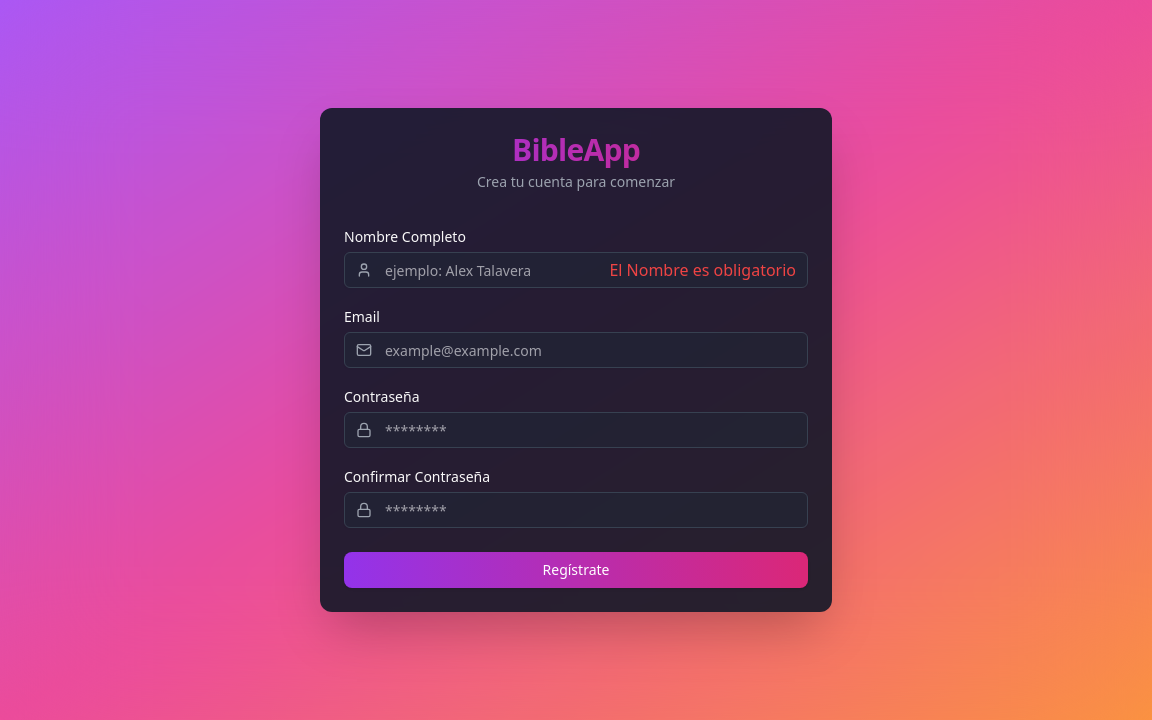
it: Componente de Registro › muestra mensaje de éxito cuando el registro es exitoso
Type "John Doe" into the field labelled "Nombre Completo" at (576, 270), box [344, 252, 808, 288]
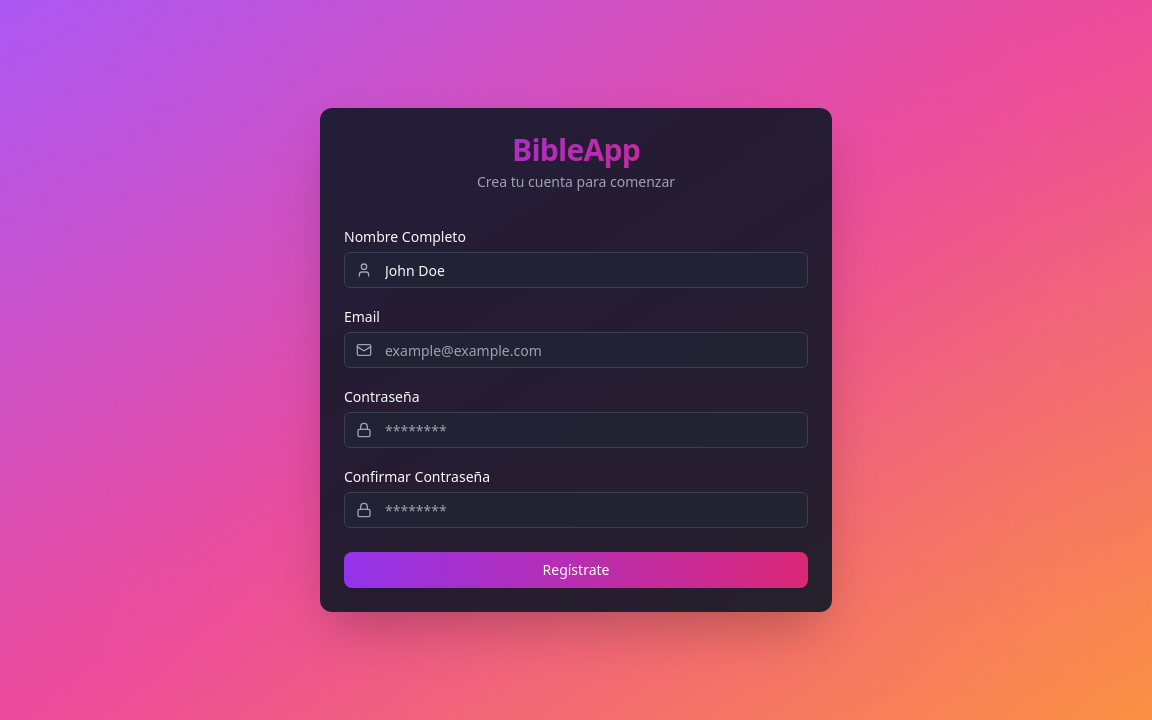
Type "john@example.com" into the field labelled "Email" at (576, 350), box [344, 332, 808, 368]
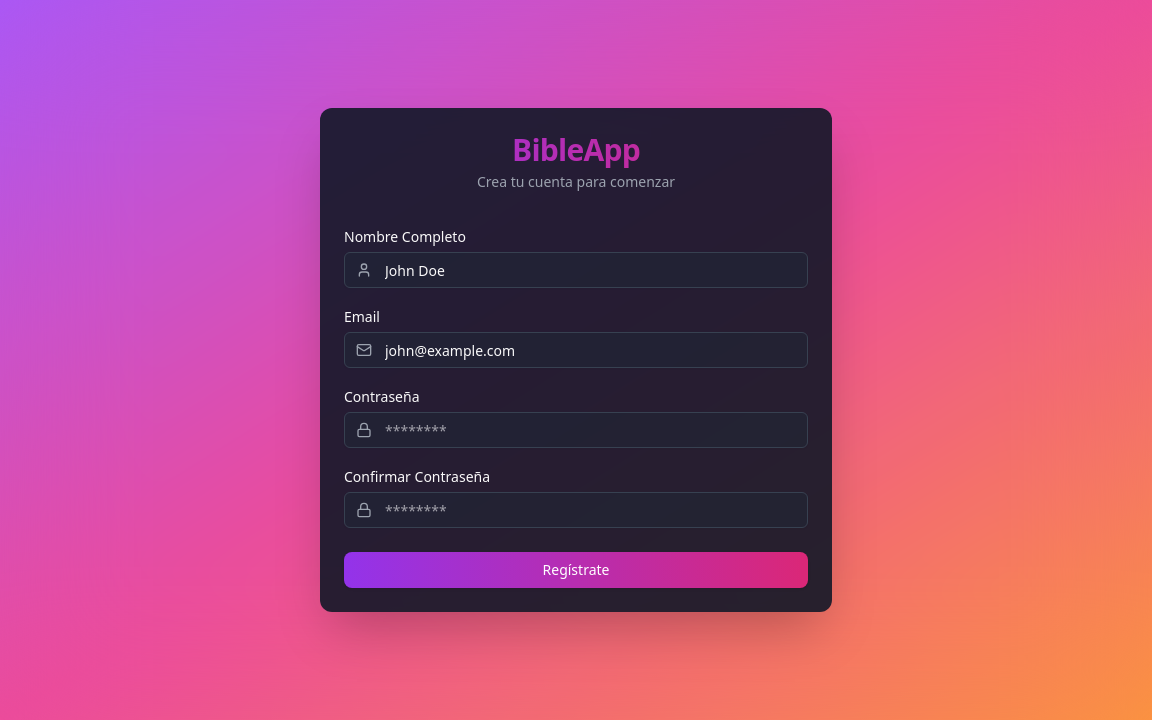
Type "password123" into the password field labelled "Contraseña" at (576, 430), box [344, 412, 808, 448]
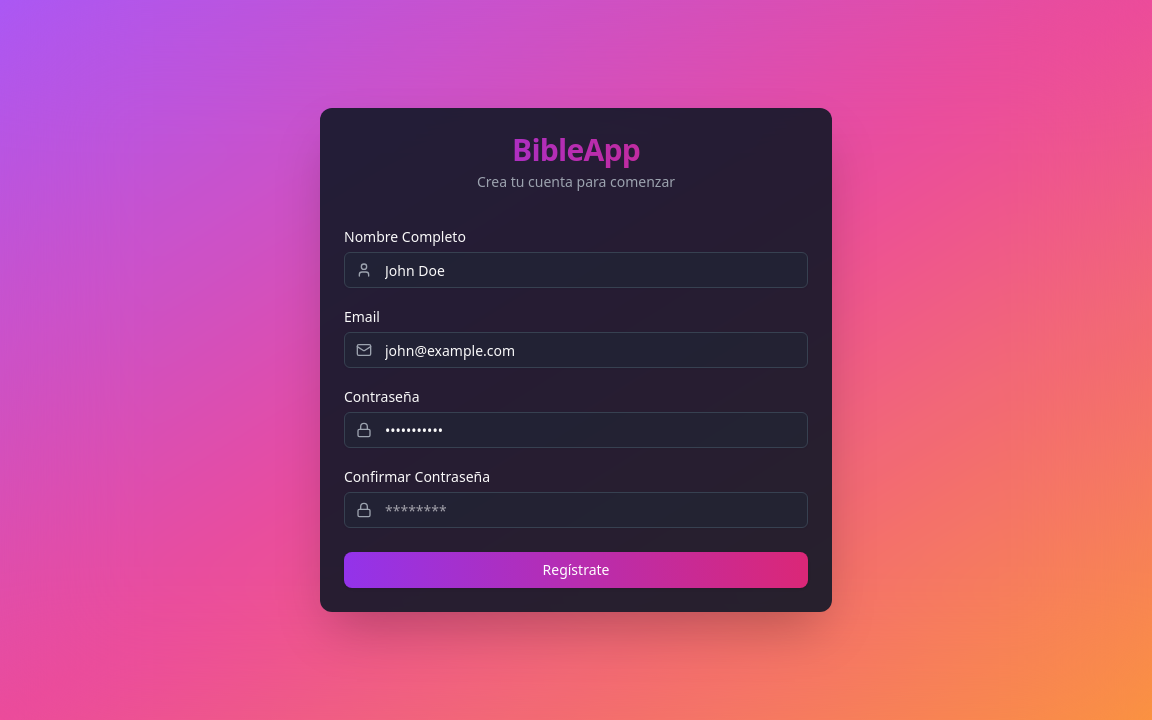
Type "password123" into the password field labelled "Confirmar Contraseña" at (576, 510), box [344, 492, 808, 528]
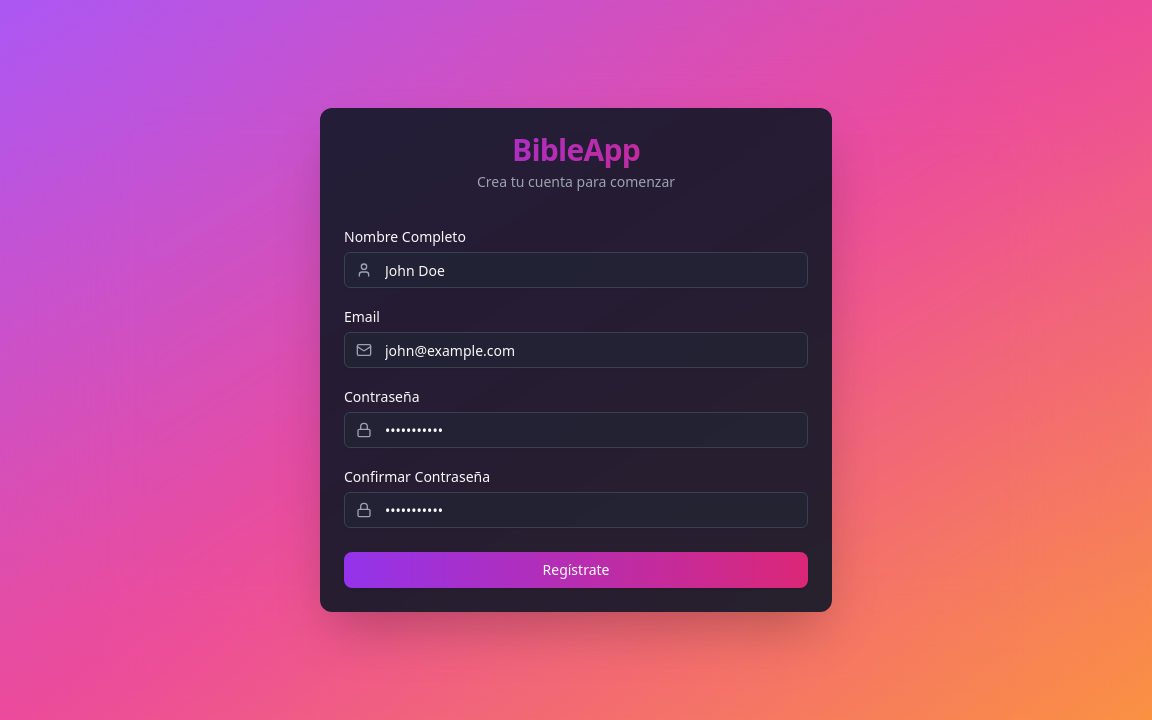
Click the button "Regístrate" at (576, 570), box [344, 552, 808, 588]
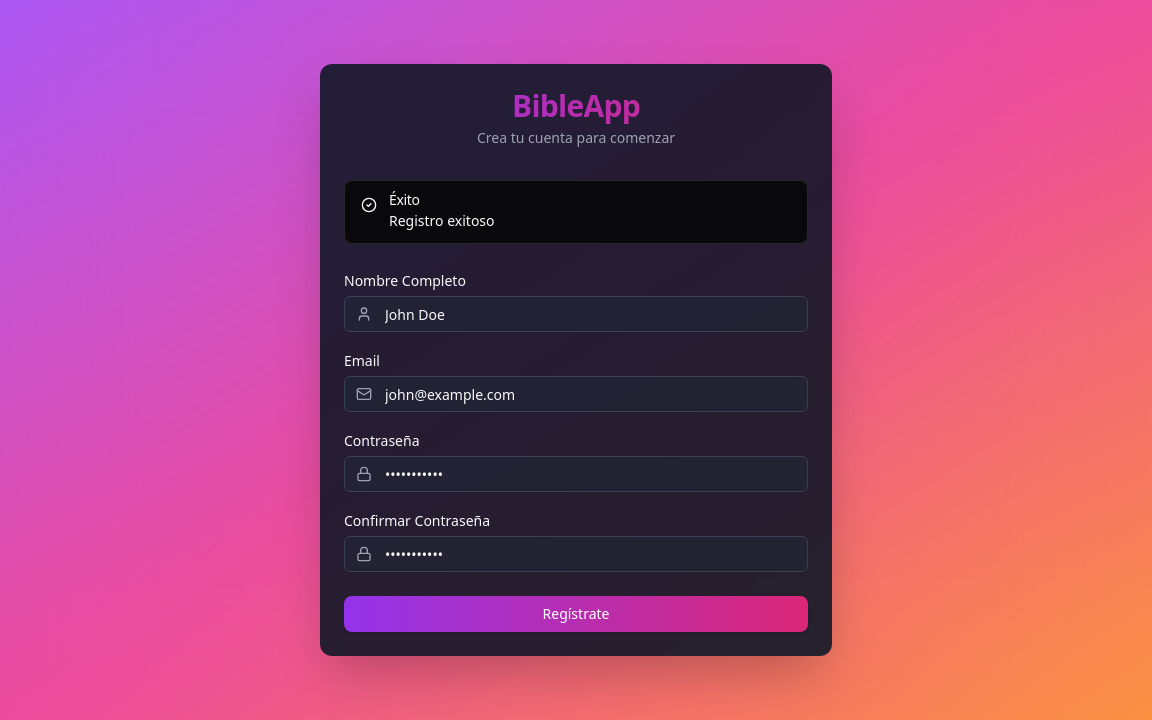
Result: the heading "Éxito" is shown at [389, 190, 420, 209]
Result: the text "Registro exitoso" is shown at [389, 211, 494, 230]
